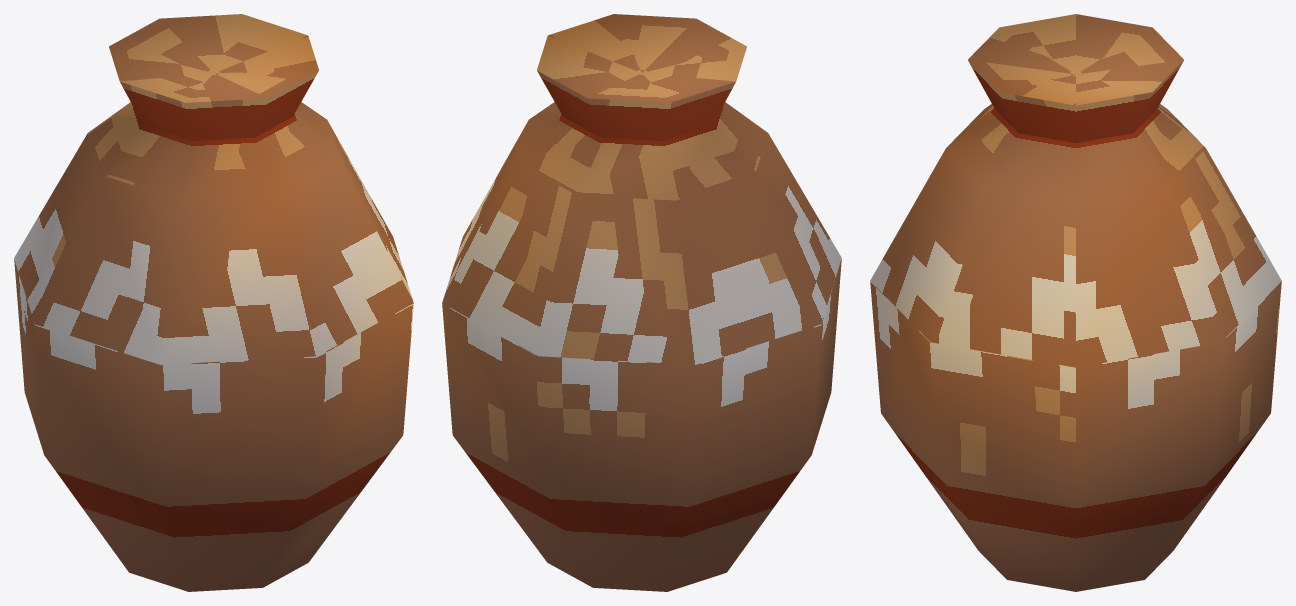
File: relic.urn.glb
3 renders of one model, left to right at view 1: azimuth 30°, elevation 25°; view 2: azimuth 150°, elevation 25°; view 3: azimuth 270°, elevation 25°, orthographic.
Visible parts, largest first — view 1: kit_body; view 2: kit_body; view 3: kit_body.
Boxes of the visible parts, <box> form: kit_body: <box>14,14,413,591</box>; kit_body: <box>442,14,841,591</box>; kit_body: <box>870,14,1281,591</box>.
Bounding box in the file's own units: 0.684 × 0.9 × 0.684.
1 material, 1 textured.
